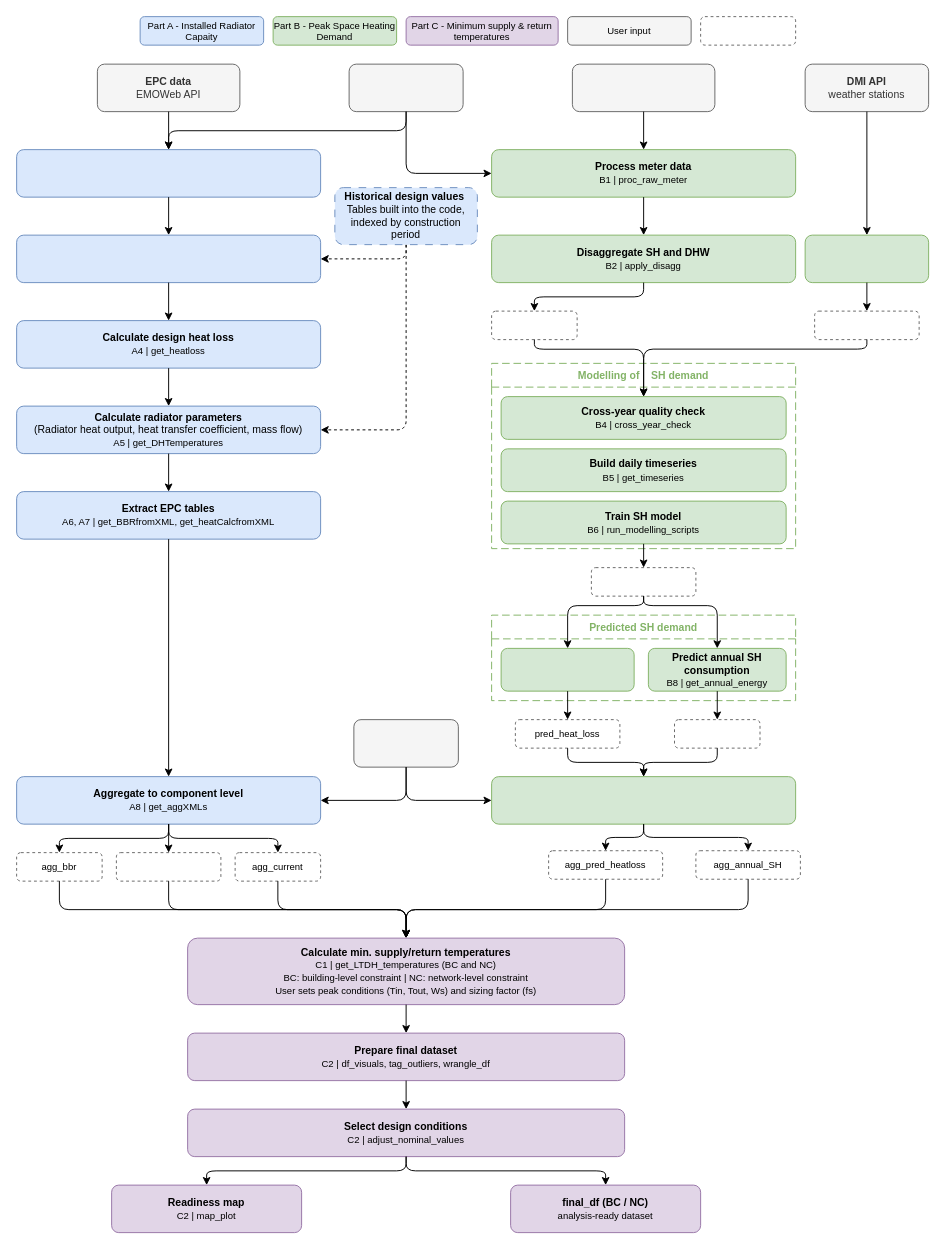
Some shapes in this 945 by 1249 pixel diagram are drawn without their labels. Here are the shapes that lost their labels. From the top down, the centre of each, then its label:
At [748,30]: "Data file".
At [405,87]: "master_ids user-prepared".
At [643,87]: "hourly_meter_raw user-prepared".
At [168,173]: "Retrieve EPC data A1, A2 | retrieve_EPC, retrieve_EPC_XML".
At [168,258]: "Assign design U-values and indoor-outdoor temperatures A3 | get_design_values".
At [866,258]: "Retrieve weather data B3 | get_weather".
At [534,325]: "hourly_SH".
At [866,325]: "hourly_weather".
At [643,581]: "model_params".
At [567,669]: "Predict peak space heating demand B7 | heatloss_calculation".
At [405,743]: "component_ids user-prepared".
At [717,733]: "annual_SH".
At [643,800]: "Aggregate to component level B9 | get_aggregate_df".
At [168,866]: "agg_max / agg_min".
